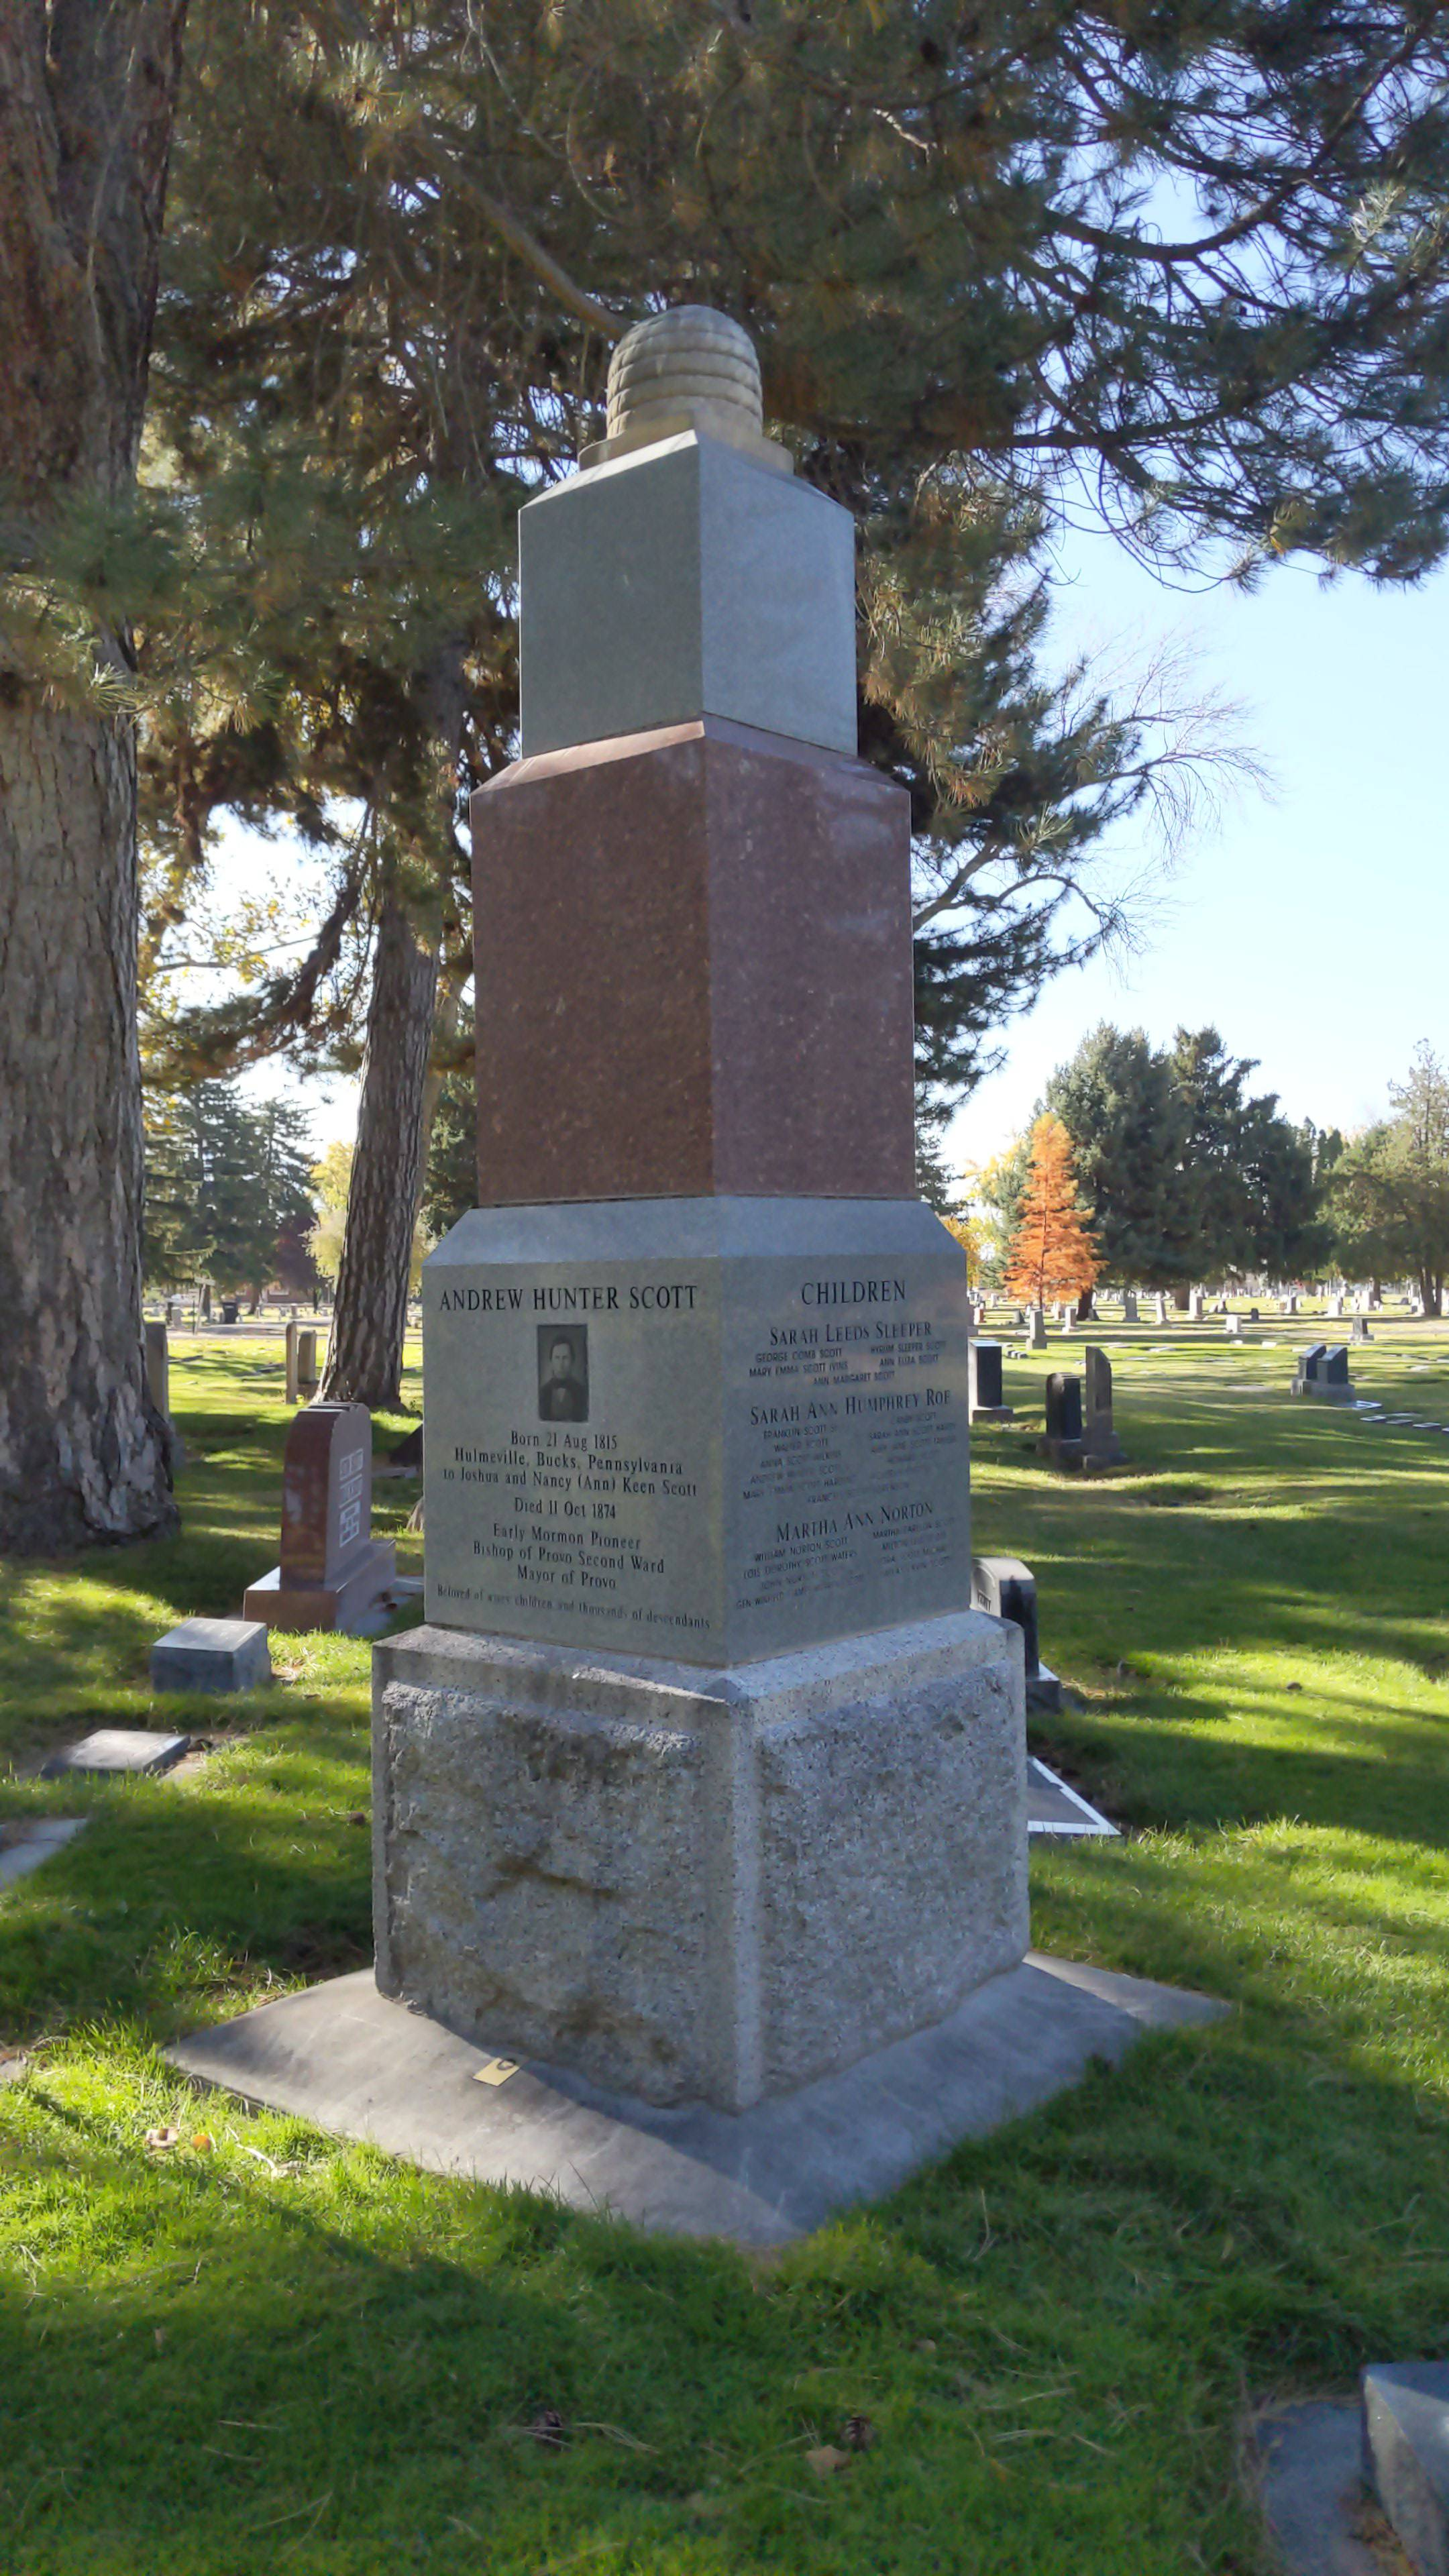obelisk: (384, 313, 1019, 2102)
